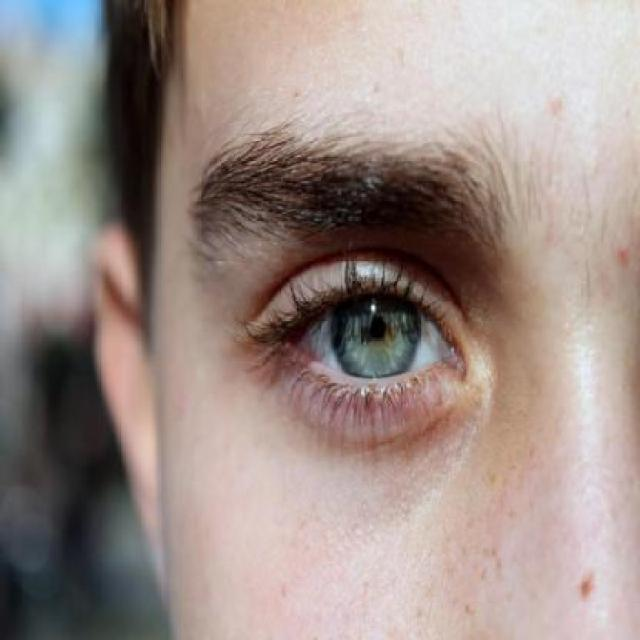awake: (286, 294, 463, 384)
